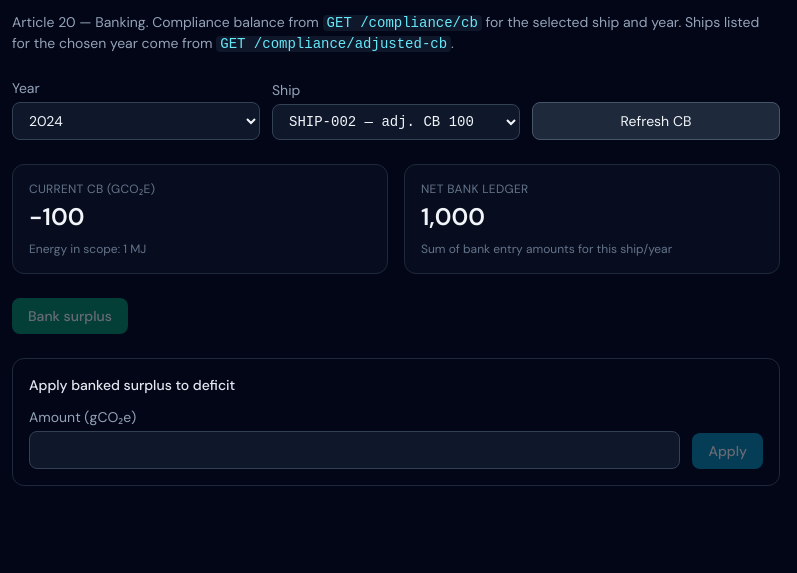
Test: BankingTab › shows error on apply failure
Type "5000" into the number field labelled "Amount (gCO₂e)" at (355, 450), box [29,431,680,469]
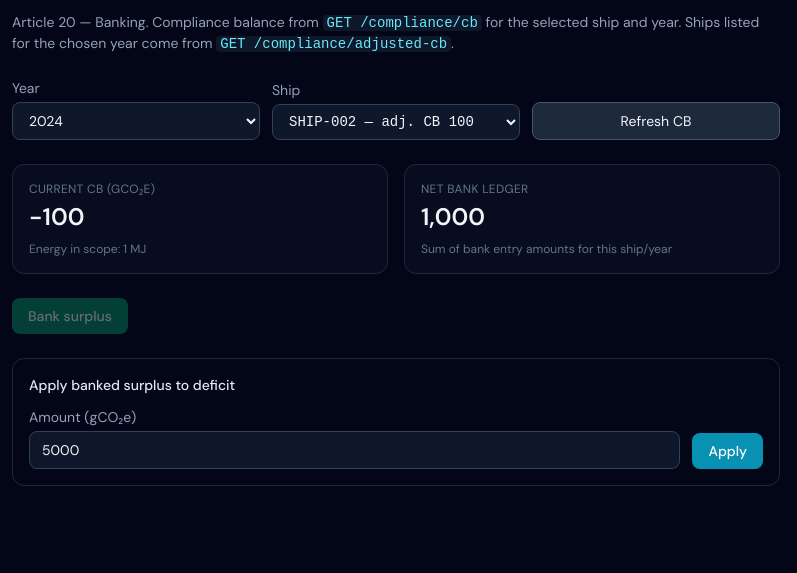
Click the button "Apply" at (728, 451), box [692,433,763,469]
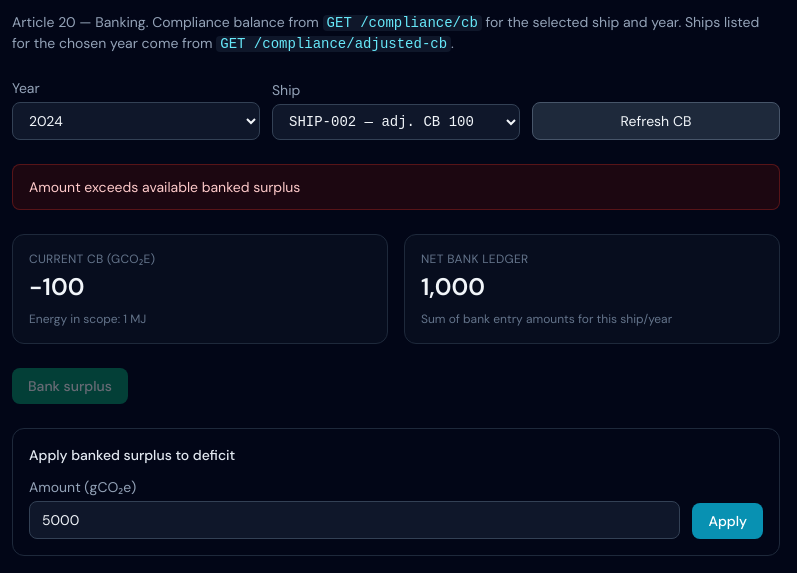
Expected: the message shows "exceeds available", [29,178,300,196]
